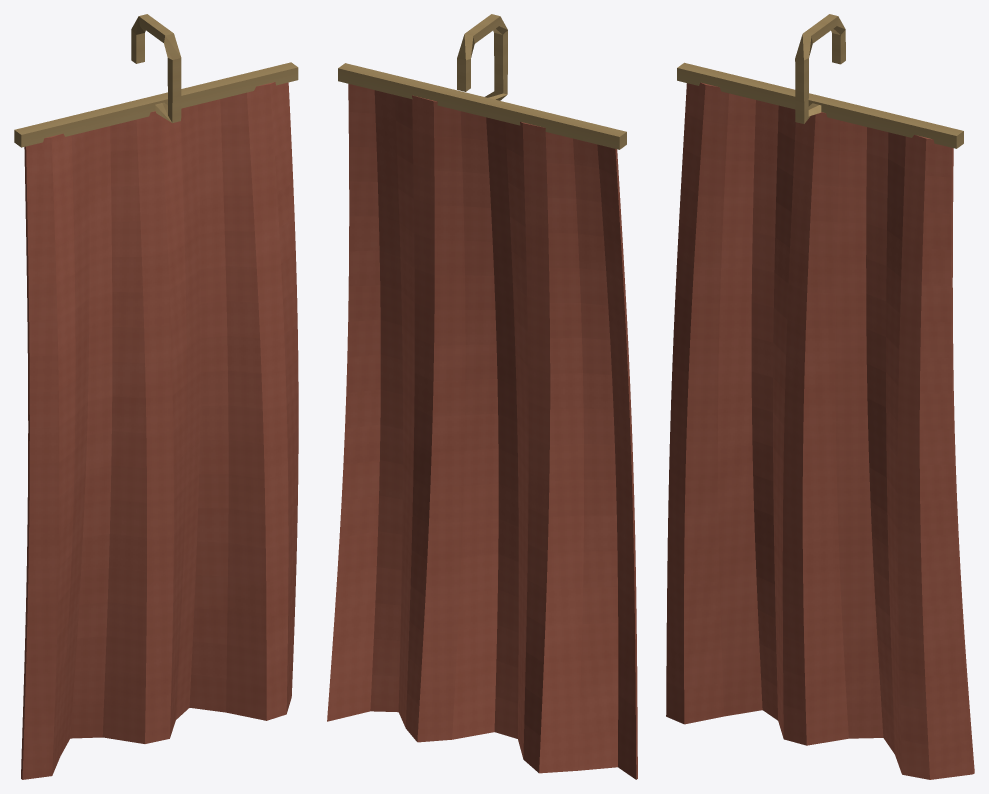
Rendered from AST-RTL-008.glb.
The picture shows the model from 3 angles, left to right: view 1: azimuth 30°, elevation 25°; view 2: azimuth 150°, elevation 25°; view 3: azimuth 330°, elevation 25°; orthographic projection.
Visible parts, largest first — view 1: TEXTILE_AuthoredFoldedPanel, TEXTILE_SupportBar, TEXTILE_HangingNeck; view 2: TEXTILE_AuthoredFoldedPanel, TEXTILE_SupportBar, TEXTILE_HangingNeck; view 3: TEXTILE_AuthoredFoldedPanel, TEXTILE_SupportBar, TEXTILE_HangingNeck.
Boxes of the visible parts, <box> form: TEXTILE_AuthoredFoldedPanel: <box>21,82,298,779</box>; TEXTILE_SupportBar: <box>14,62,298,147</box>; TEXTILE_HangingNeck: <box>131,14,181,122</box>; TEXTILE_AuthoredFoldedPanel: <box>327,84,637,779</box>; TEXTILE_SupportBar: <box>338,63,626,149</box>; TEXTILE_HangingNeck: <box>457,14,507,100</box>; TEXTILE_AuthoredFoldedPanel: <box>666,82,974,779</box>; TEXTILE_SupportBar: <box>677,62,963,148</box>; TEXTILE_HangingNeck: <box>795,14,845,123</box>.
Bounding box in the file's own units: 0.59 × 1.4 × 0.1479.
2 materials, 2 textured.
